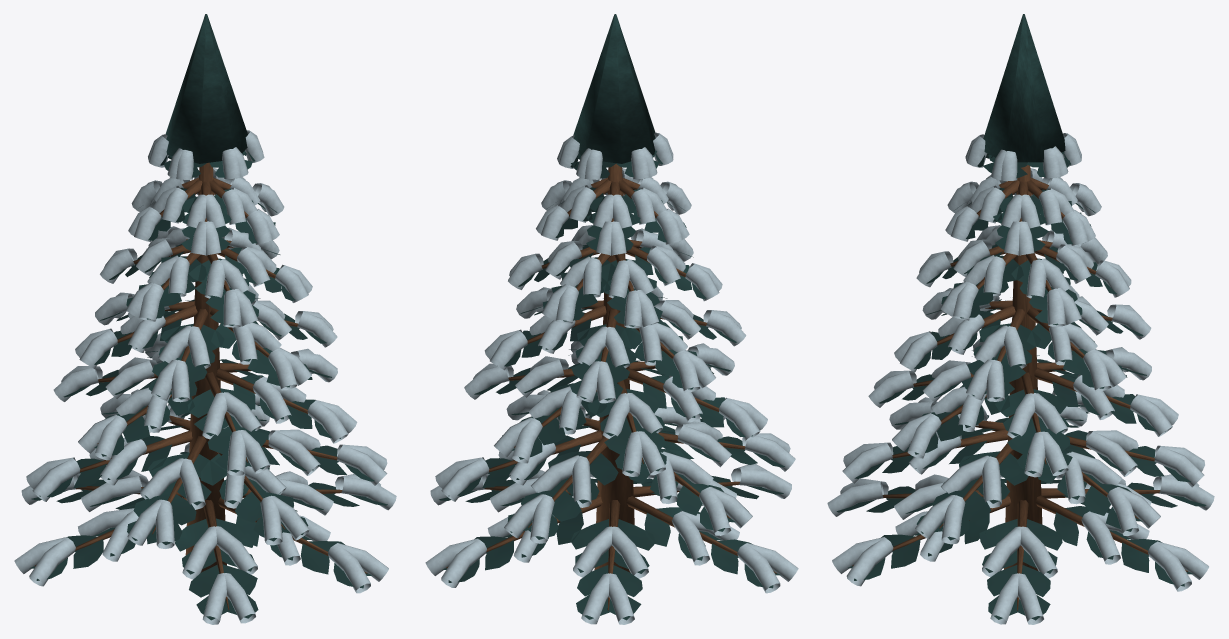
File: prop_fir_2.glb
The picture shows the model from 3 angles, left to right: view 1: azimuth 30°, elevation 25°; view 2: azimuth 150°, elevation 25°; view 3: azimuth 270°, elevation 25°; orthographic projection.
Visible parts, largest first — view 1: Soft_windblown_snow, Fir_needles, Old_oak; view 2: Soft_windblown_snow, Fir_needles, Old_oak; view 3: Soft_windblown_snow, Fir_needles, Old_oak.
Boxes of the visible parts, x1,y1,x2,y2 form: Soft_windblown_snow: [14, 130, 396, 624]; Fir_needles: [29, 14, 387, 620]; Old_oak: [35, 162, 367, 609]; Soft_windblown_snow: [425, 132, 798, 624]; Fir_needles: [439, 14, 784, 620]; Old_oak: [446, 163, 776, 610]; Soft_windblown_snow: [827, 133, 1214, 624]; Fir_needles: [836, 14, 1206, 620]; Old_oak: [852, 165, 1187, 610].
Size of the model in its own units: 3.16 by 4.69 by 2.96.
3 materials, 3 textured.
